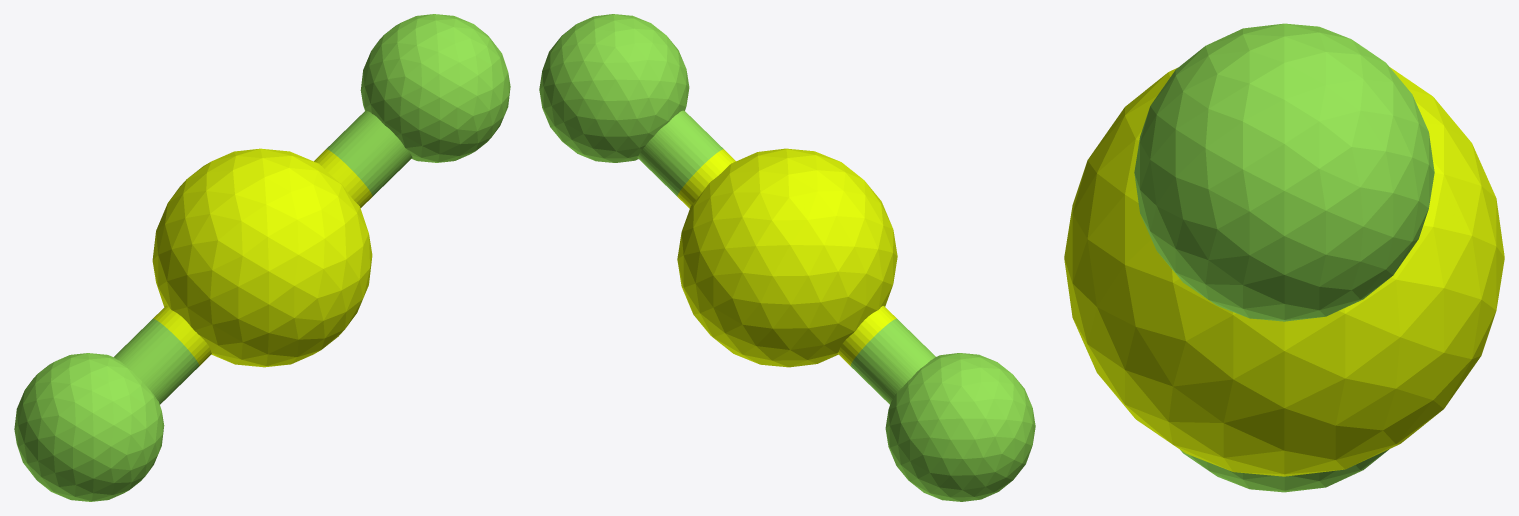
Rendered from XeF2.gltf.
The picture shows the model from 3 angles, left to right: view 1: azimuth 30°, elevation 25°; view 2: azimuth 150°, elevation 25°; view 3: azimuth 270°, elevation 25°; orthographic projection. The views are drawn at different scales.
Visible parts, largest first — view 1: Shape_IndexedFaceSet, Shape_IndexedFaceSet.002, Shape_IndexedFaceSet.001, Shape_IndexedFaceSet.005, Shape_IndexedFaceSet.008, Shape_IndexedFaceSet.003, Shape_IndexedFaceSet.007; view 2: Shape_IndexedFaceSet, Shape_IndexedFaceSet.002, Shape_IndexedFaceSet.001, Shape_IndexedFaceSet.008, Shape_IndexedFaceSet.005, Shape_IndexedFaceSet.003, Shape_IndexedFaceSet.007; view 3: Shape_IndexedFaceSet, Shape_IndexedFaceSet.001, Shape_IndexedFaceSet.002.
Boxes of the visible parts, x1=… form: Shape_IndexedFaceSet: x1=152, y1=148, x2=372, y2=367; Shape_IndexedFaceSet.002: x1=14, y1=353, x2=164, y2=501; Shape_IndexedFaceSet.001: x1=360, y1=14, x2=510, y2=162; Shape_IndexedFaceSet.005: x1=114, y1=318, x2=199, y2=404; Shape_IndexedFaceSet.008: x1=326, y1=111, x2=412, y2=196; Shape_IndexedFaceSet.003: x1=153, y1=305, x2=211, y2=366; Shape_IndexedFaceSet.007: x1=314, y1=149, x2=372, y2=207; Shape_IndexedFaceSet: x1=677, y1=148, x2=897, y2=367; Shape_IndexedFaceSet.002: x1=885, y1=353, x2=1035, y2=501; Shape_IndexedFaceSet.001: x1=539, y1=14, x2=689, y2=162; Shape_IndexedFaceSet.008: x1=637, y1=110, x2=723, y2=196; Shape_IndexedFaceSet.005: x1=850, y1=318, x2=935, y2=404; Shape_IndexedFaceSet.003: x1=837, y1=306, x2=896, y2=366; Shape_IndexedFaceSet.007: x1=677, y1=149, x2=735, y2=208; Shape_IndexedFaceSet: x1=1064, y1=67, x2=1504, y2=476; Shape_IndexedFaceSet.001: x1=1134, y1=23, x2=1434, y2=321; Shape_IndexedFaceSet.002: x1=1180, y1=449, x2=1389, y2=492.
Size of the model in its own units: 0.3736 by 0.2927 by 0.1497.
